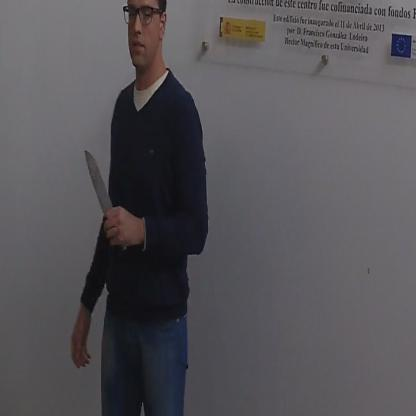knife: (82, 140, 128, 252)
